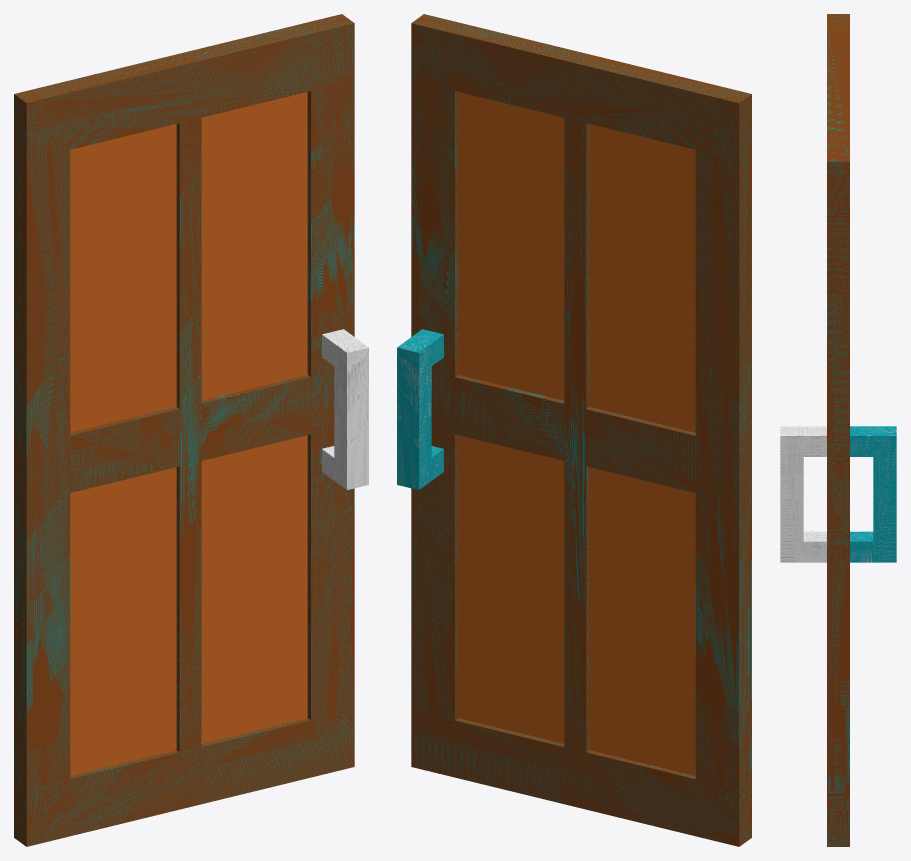
The model's file is door7.fbx.
3 views of the same model, side by side, from view 1: azimuth 30°, elevation 25°; view 2: azimuth 150°, elevation 25°; view 3: azimuth 270°, elevation 25° (orthographic). The views are drawn at different scales.
Parts seen in each view (by area): view 1: Mesh5_Door_4_1 Model, Mesh3_Component_3_3 Door_4_1 Model, Mesh1_Component_3_1 Door_4_1 Model, Mesh2_Component_3_2 Door_4_1 Model, Mesh4_Component_3_4 Door_4_1 Model; view 2: Mesh5_Door_4_1 Model, Mesh3_Component_3_3 Door_4_1 Model, Mesh1_Component_3_1 Door_4_1 Model, Mesh2_Component_3_2 Door_4_1 Model, Mesh4_Component_3_4 Door_4_1 Model; view 3: Mesh5_Door_4_1 Model.
Part boxes in pixels (bbox=[...]): Mesh5_Door_4_1 Model: bbox=[14, 14, 368, 846]; Mesh3_Component_3_3 Door_4_1 Model: bbox=[70, 124, 176, 432]; Mesh1_Component_3_1 Door_4_1 Model: bbox=[201, 435, 307, 743]; Mesh2_Component_3_2 Door_4_1 Model: bbox=[70, 467, 176, 775]; Mesh4_Component_3_4 Door_4_1 Model: bbox=[201, 92, 307, 400]; Mesh5_Door_4_1 Model: bbox=[397, 14, 751, 846]; Mesh3_Component_3_3 Door_4_1 Model: bbox=[589, 124, 695, 432]; Mesh1_Component_3_1 Door_4_1 Model: bbox=[458, 435, 564, 743]; Mesh2_Component_3_2 Door_4_1 Model: bbox=[589, 467, 695, 775]; Mesh4_Component_3_4 Door_4_1 Model: bbox=[458, 92, 564, 400]; Mesh5_Door_4_1 Model: bbox=[780, 14, 896, 846].
Bounding box in the file's own units: 0.3 × 0.65 × 0.1.
